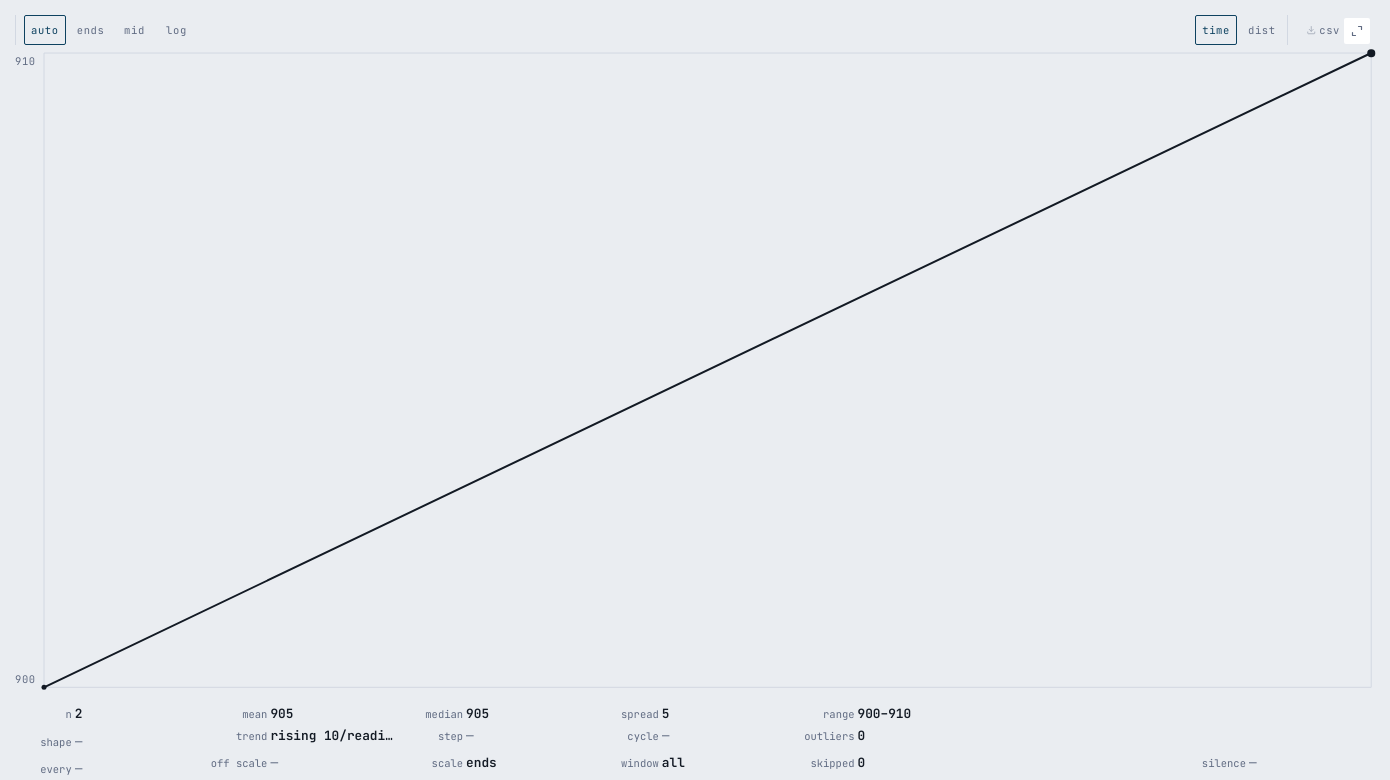
pinning a chart › closes the window when its close is pressed
Step 1. Click the button with test id "zoom" → (1357, 31), box [1344,18,1370,44]
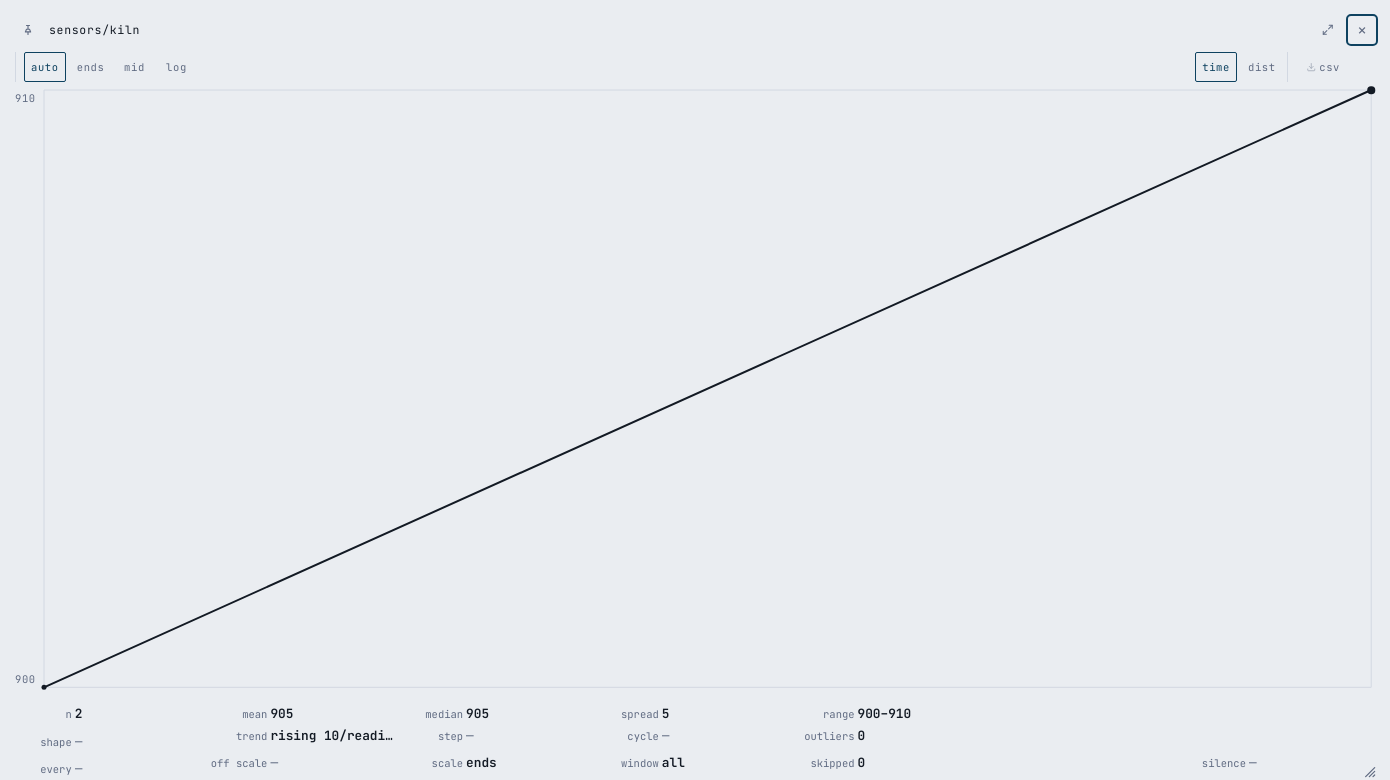
Step 2. Click the button named "Pin " → (28, 30), box [15,17,41,43]
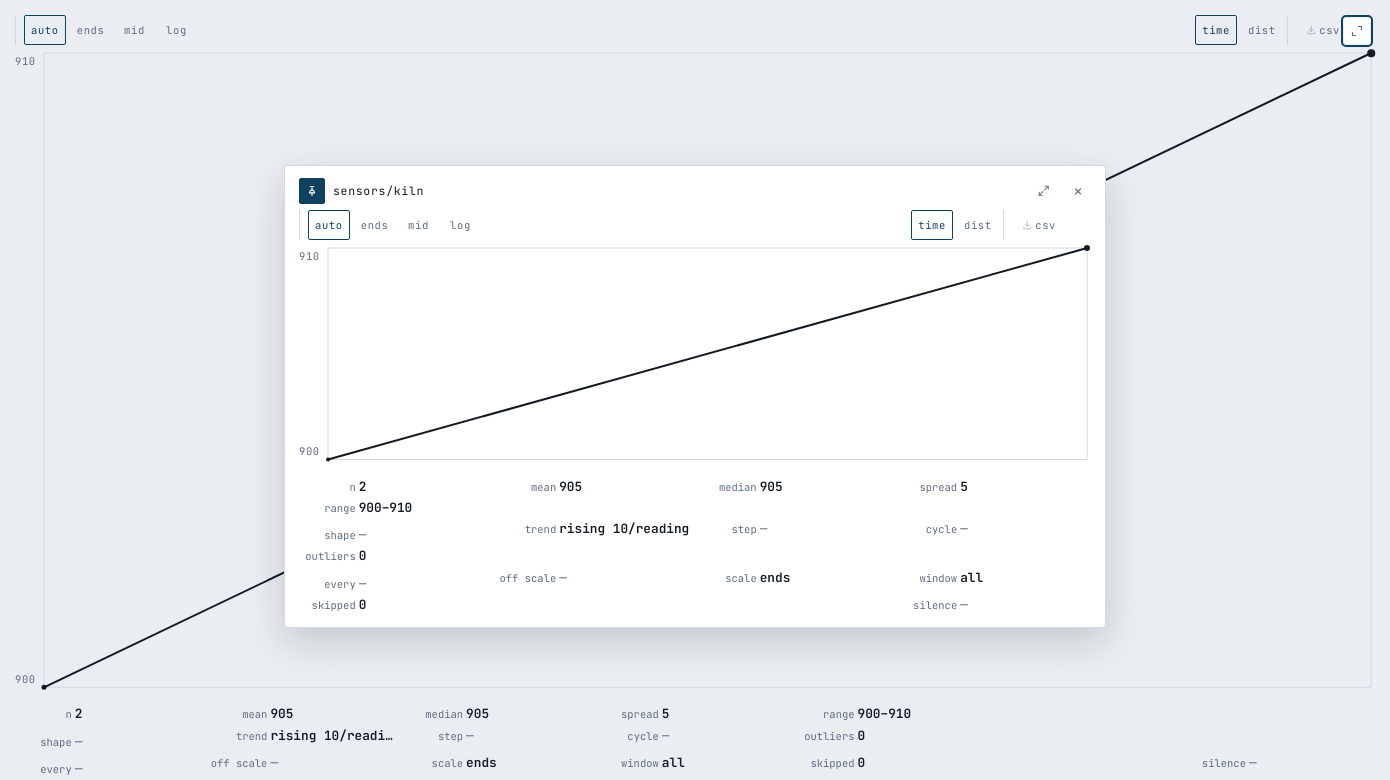
Step 3. Click the button named "Close the sensors/kiln chart" → (1078, 191), box [1065,178,1091,204]
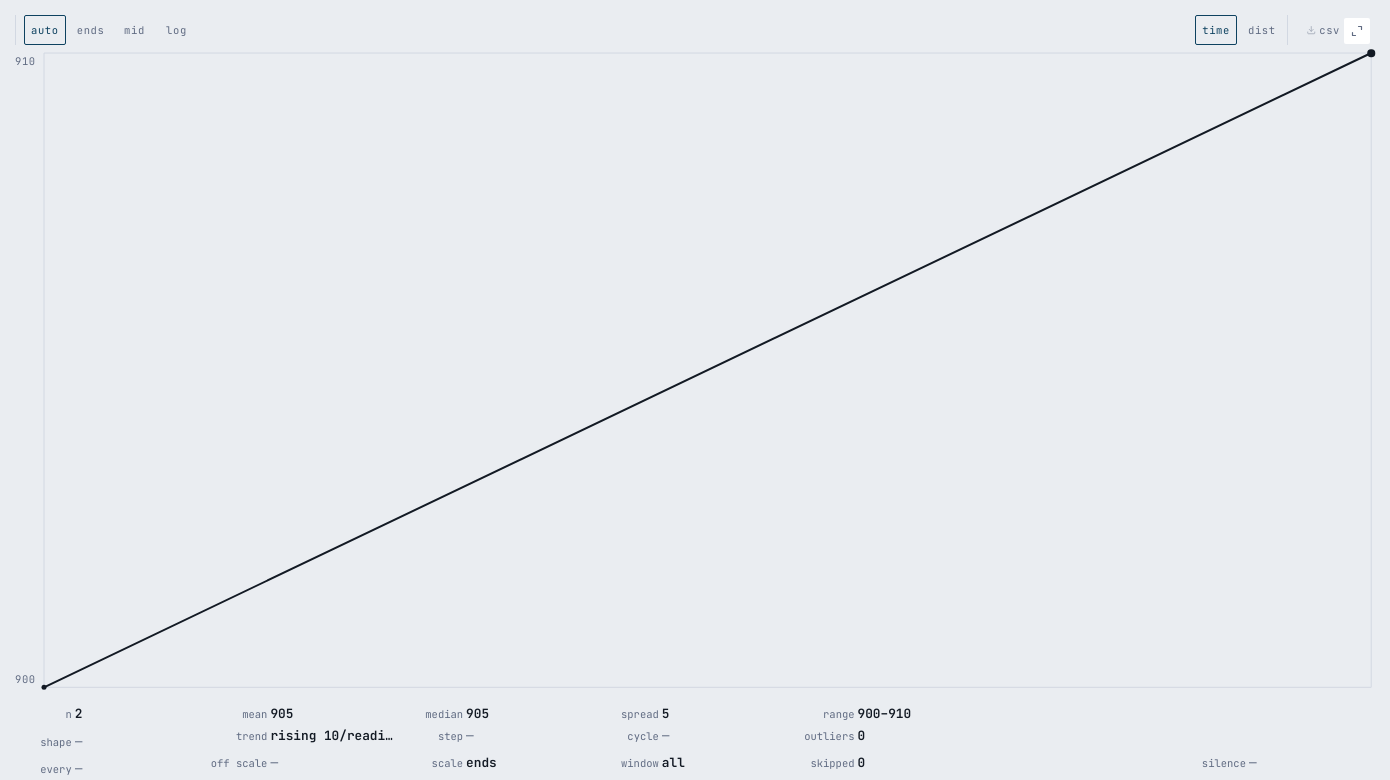
Result: the element with test id "chart-window" is gone
